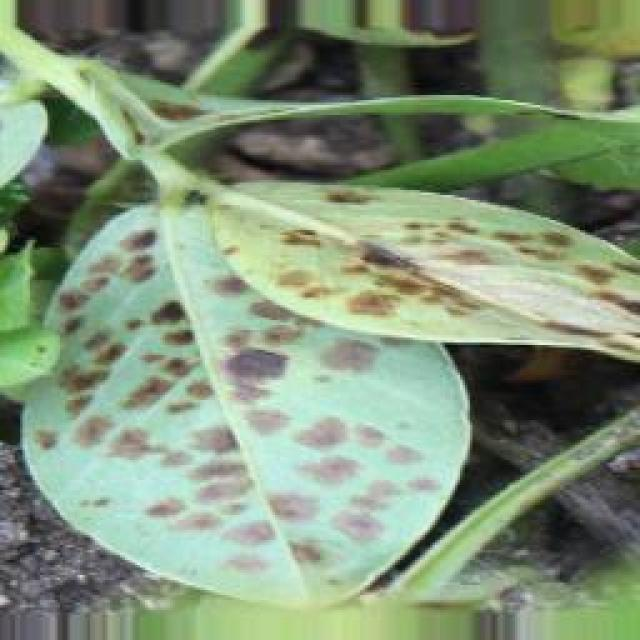Whitefly: (20, 175, 640, 585)
